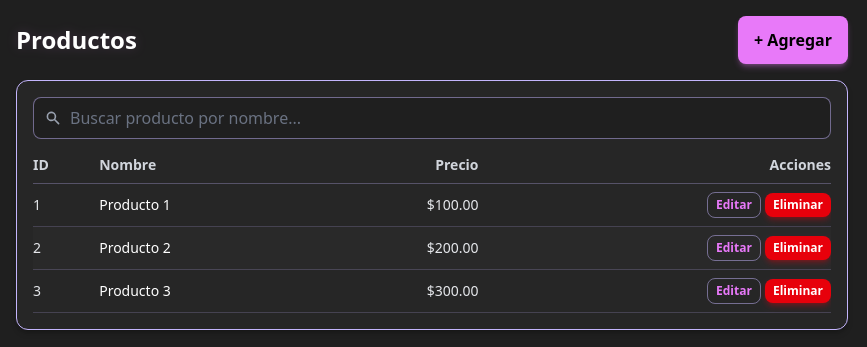
Test: Productos › shows no results message when search matches nothing
The width and height of the screenshot is (867, 347).
Type "xyz" into the field with placeholder "Buscar producto por nombre...".
click(432, 118); type("xyz")  # box [33,97,831,139]
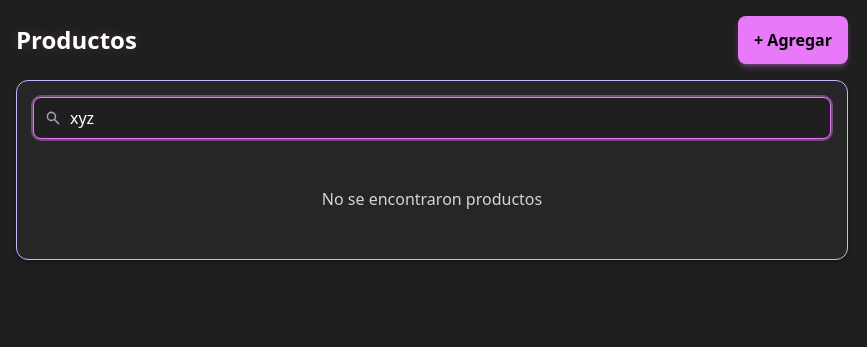
expect the text "No se encontraron productos" is shown: met, box [322,188,542,210]
